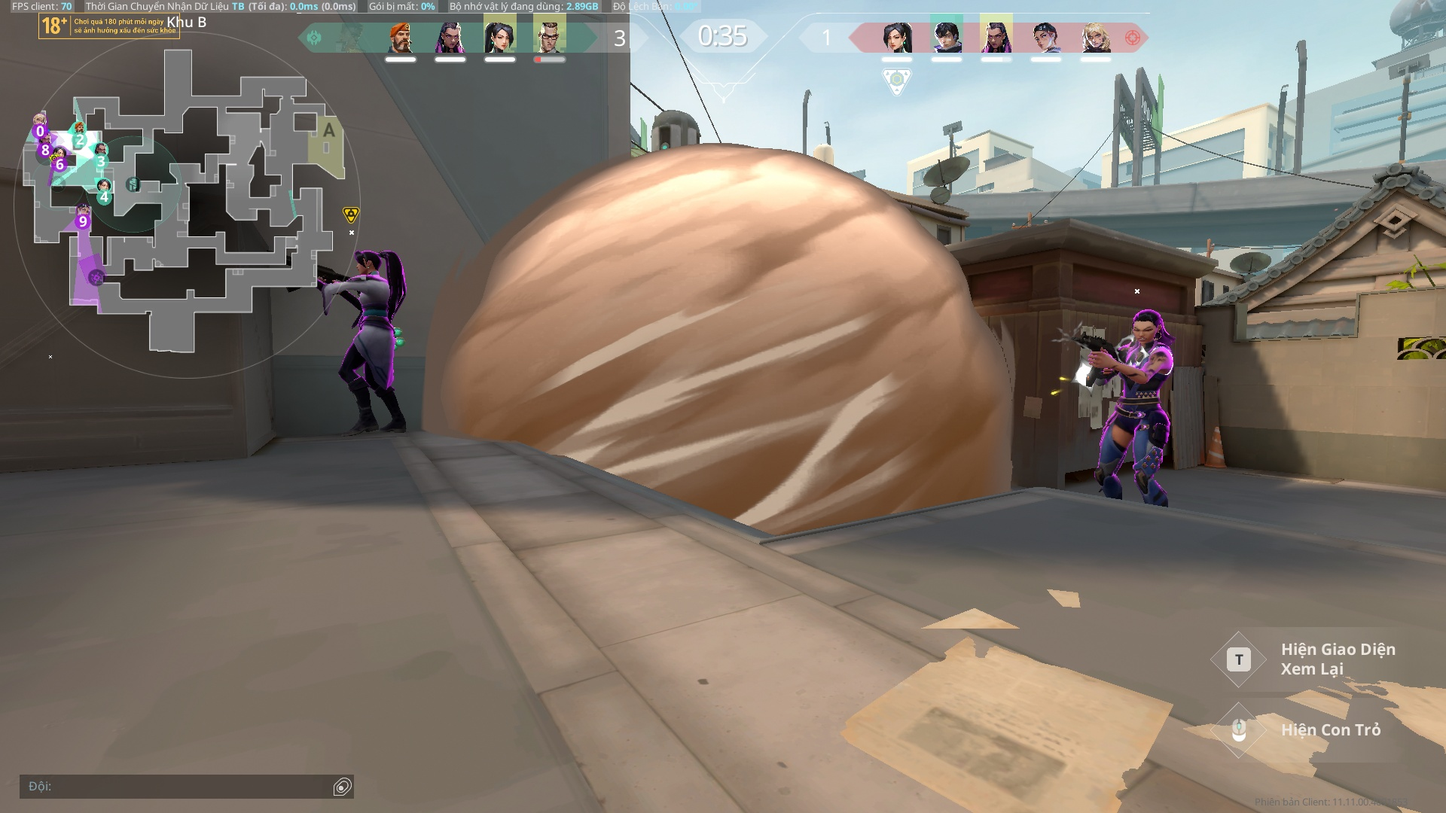body: (1110, 333, 1170, 426), (342, 270, 395, 336)
head: (1130, 305, 1161, 344), (353, 243, 378, 273)
